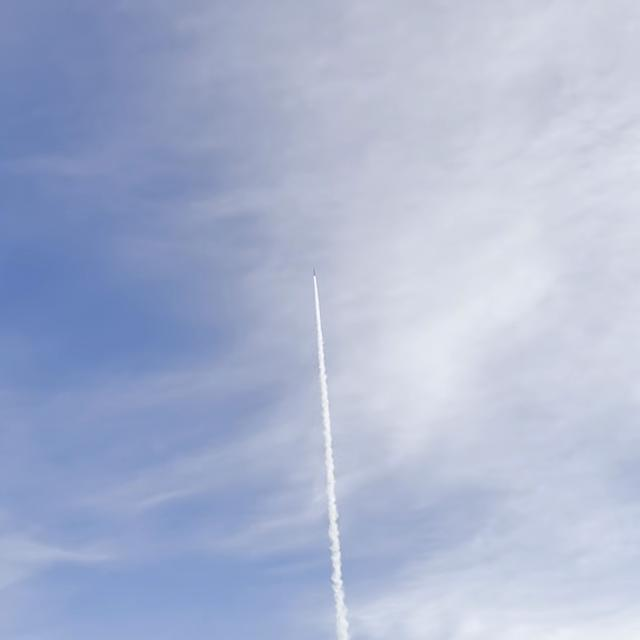smoke_trail_with_rocket: (313, 274, 348, 640)
